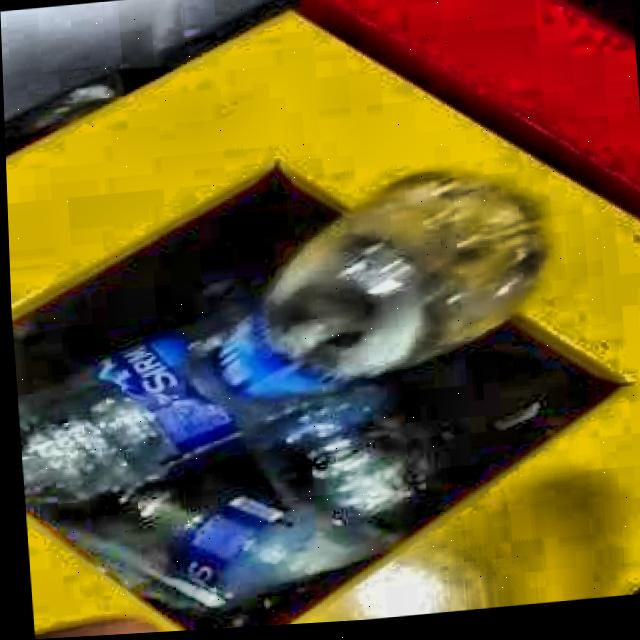plastic: (188, 178, 544, 424)
